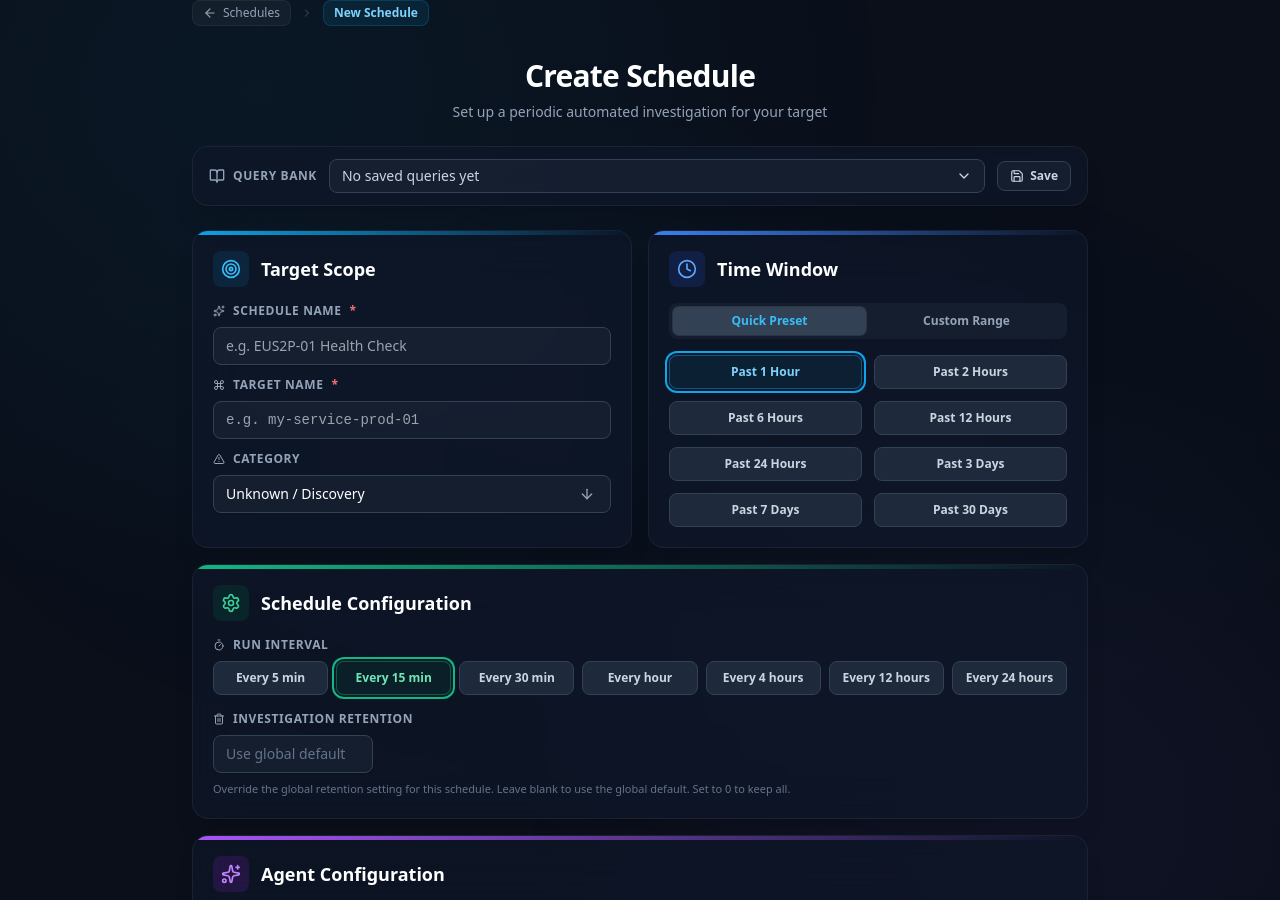
Test case: ScheduleForm › Time Configuration - Custom Mode › switches to custom mode when Custom Range clicked
Expected: the heading "Create Schedule" is shown, [525,55,755,96]
Click the button "Custom Range".
click(966, 321)  # box [870,307,1063,335]
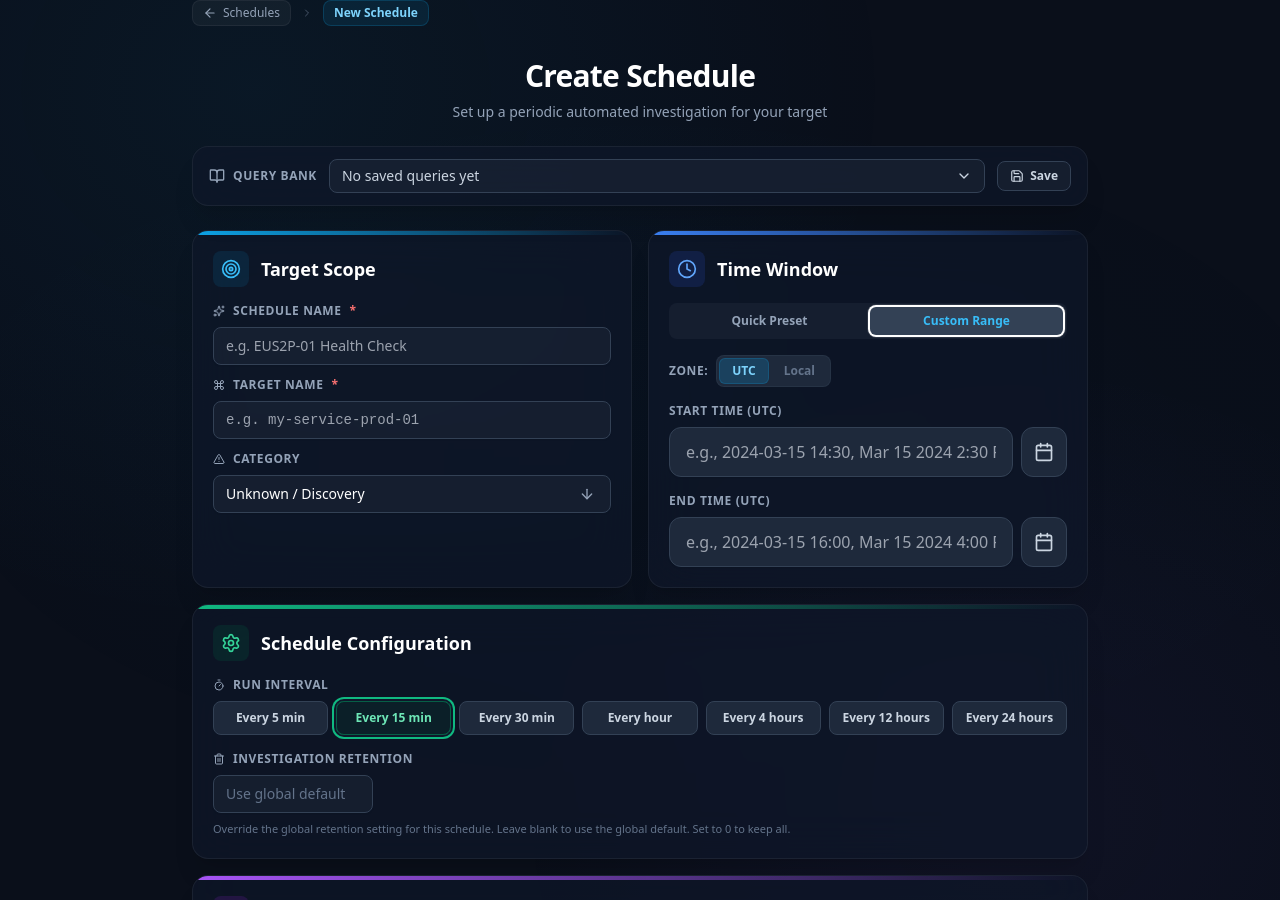
Expected: the field with placeholder "e.g., 2024-03-15 14:30, Mar 15 2024 2:30 PM" is shown, [669,427,1013,477]
Expected: the field with placeholder "e.g., 2024-03-15 16:00, Mar 15 2024 4:00 PM" is shown, [669,517,1013,567]
